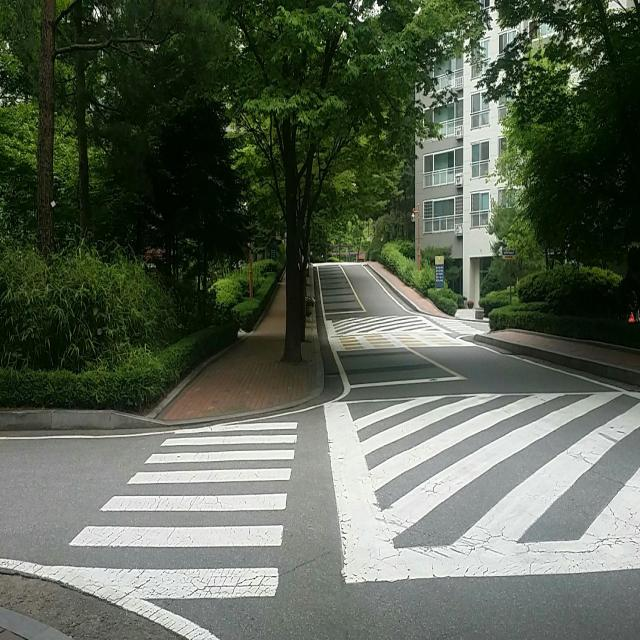횡단보도: (59, 421, 300, 601)
